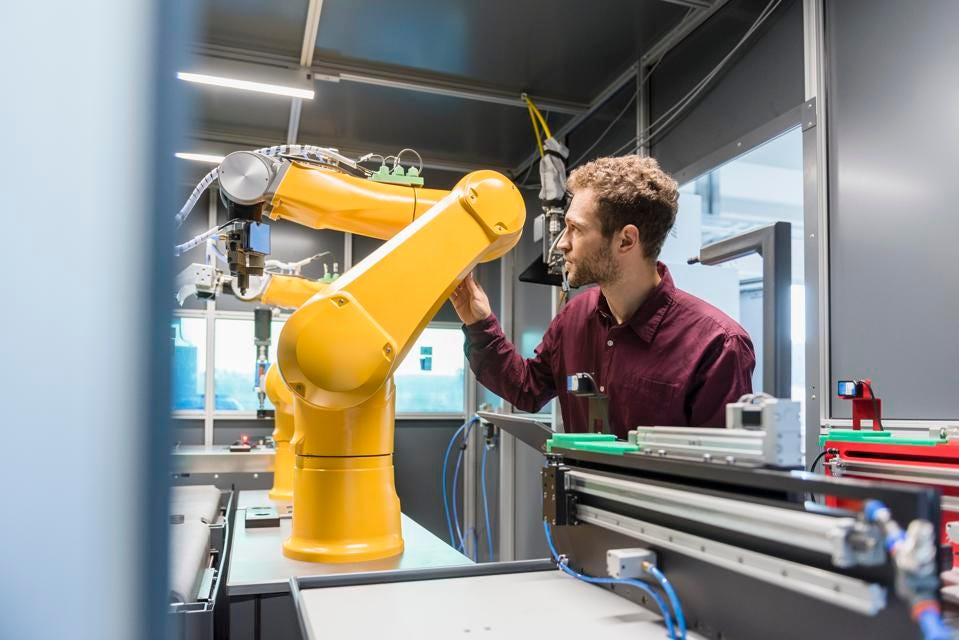person: (445, 153, 757, 440)
robot: (216, 144, 528, 562), (194, 266, 337, 499)
